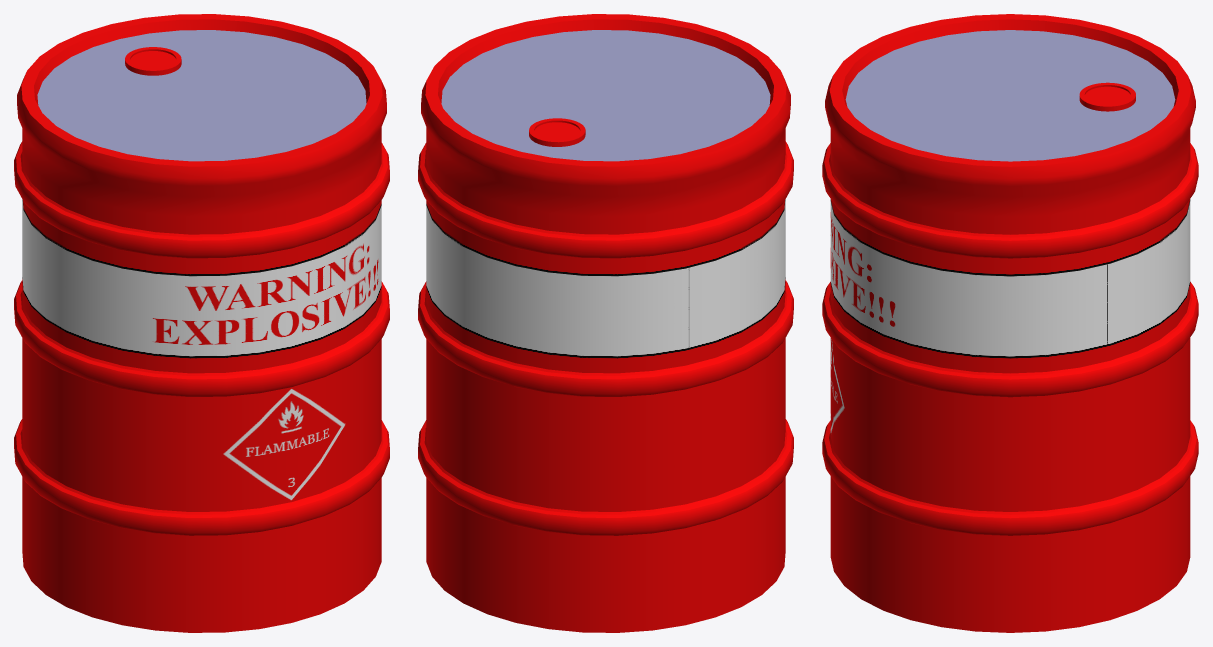
Rendered from explosive metal barrel.fbx.
3 views of the same model, side by side, from view 1: azimuth 30°, elevation 25°; view 2: azimuth 150°, elevation 25°; view 3: azimuth 270°, elevation 25° (orthographic).
Parts seen in each view (by area): view 1: EXPLOSIVE BARREL!!!; view 2: EXPLOSIVE BARREL!!!; view 3: EXPLOSIVE BARREL!!!.
Part boxes in pixels (box(x1,y1,x2,y2)): EXPLOSIVE BARREL!!!: box(14, 14, 389, 632); EXPLOSIVE BARREL!!!: box(418, 14, 793, 632); EXPLOSIVE BARREL!!!: box(822, 14, 1198, 632).
Bounding box in the file's own units: 209 × 286 × 209.
Materials: 2 (1 with a texture image).
